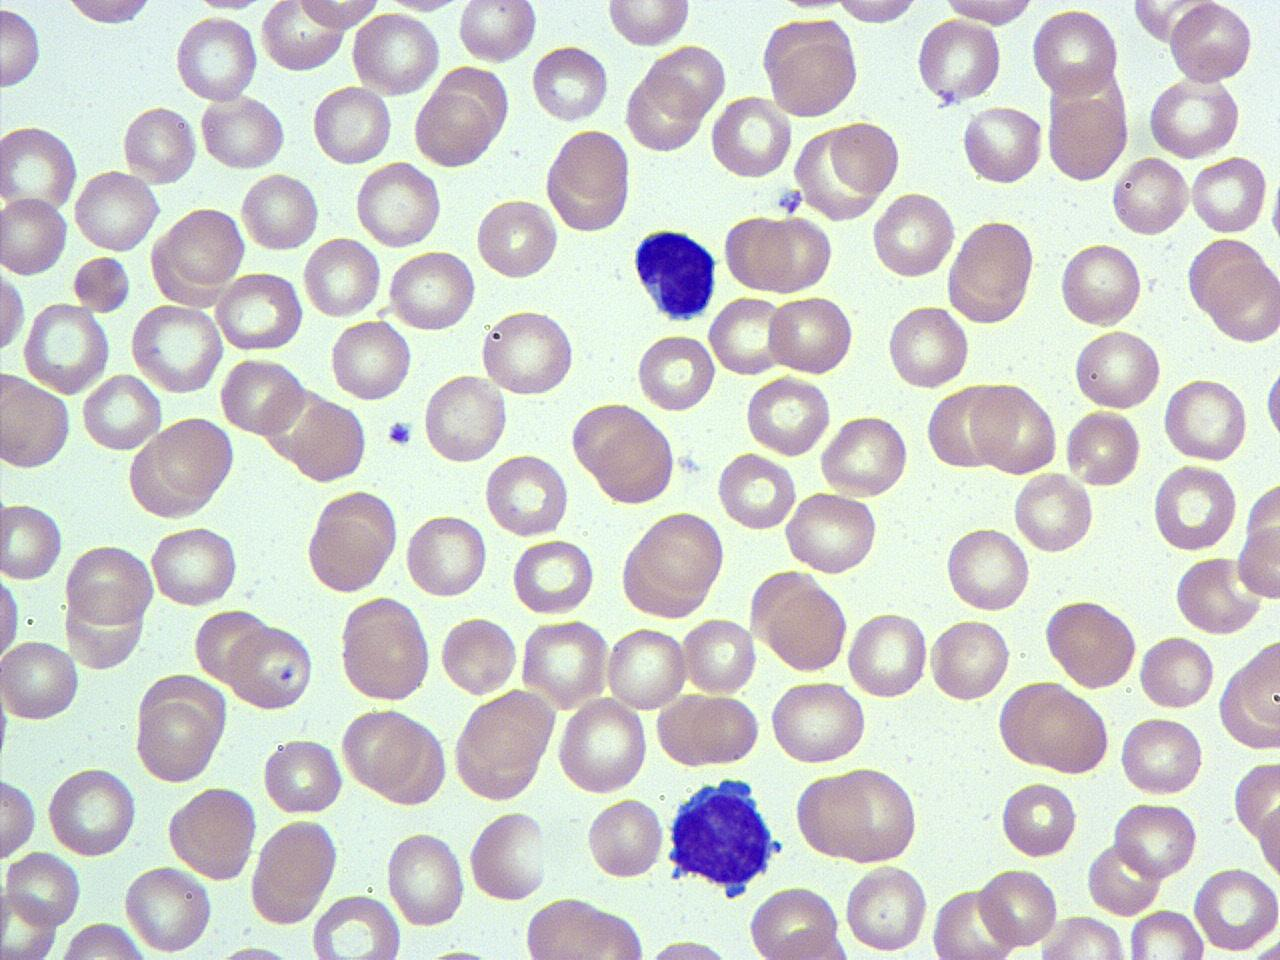Platelets: (772, 184, 804, 217), (387, 418, 417, 449)
RBC: (996, 678, 1113, 776), (452, 691, 555, 800), (304, 485, 402, 596), (337, 593, 433, 704), (572, 402, 676, 502), (249, 814, 340, 927), (944, 217, 1038, 325), (760, 19, 860, 120), (555, 694, 650, 798), (766, 677, 870, 768), (1041, 595, 1139, 692), (722, 211, 835, 294), (543, 127, 633, 232), (478, 306, 577, 399), (129, 301, 225, 395), (518, 616, 612, 712), (968, 380, 1060, 477), (166, 784, 256, 883), (781, 488, 881, 578), (830, 766, 920, 864), (794, 120, 882, 220), (382, 828, 468, 930), (120, 863, 214, 956), (350, 8, 444, 100), (1029, 6, 1121, 101), (21, 298, 112, 394), (842, 860, 930, 958), (45, 764, 139, 856), (132, 691, 221, 786), (147, 521, 242, 610), (420, 371, 508, 467), (817, 412, 912, 500), (71, 166, 162, 256), (1146, 73, 1242, 158), (1070, 327, 1166, 412), (467, 806, 550, 904), (353, 158, 443, 248), (914, 14, 1004, 105), (944, 523, 1033, 615), (63, 542, 155, 629), (1161, 373, 1249, 465), (635, 508, 726, 596), (402, 510, 490, 601), (884, 301, 972, 391), (1172, 552, 1266, 636), (1192, 864, 1280, 954), (870, 190, 956, 280), (474, 194, 560, 284), (174, 12, 259, 105), (385, 249, 478, 334), (226, 624, 314, 712), (482, 451, 570, 538), (1045, 91, 1129, 184), (213, 268, 305, 352), (769, 578, 850, 674), (605, 626, 692, 714), (1056, 240, 1144, 328), (1151, 462, 1237, 552), (927, 615, 1013, 705), (765, 293, 856, 378), (792, 770, 876, 862), (1108, 152, 1194, 240), (709, 92, 794, 181), (846, 610, 930, 700), (1011, 469, 1097, 557), (328, 318, 413, 404), (300, 232, 384, 321), (218, 354, 308, 436), (0, 635, 82, 726), (1, 120, 81, 213), (959, 102, 1046, 187), (152, 412, 236, 500), (339, 705, 421, 794), (0, 371, 73, 472), (976, 864, 1060, 950), (1169, 0, 1255, 85), (524, 902, 648, 960), (1118, 714, 1206, 796), (743, 376, 833, 457), (585, 794, 665, 883), (746, 885, 844, 959), (79, 370, 164, 454), (311, 82, 394, 168), (238, 168, 321, 255), (1110, 799, 1198, 879), (706, 293, 787, 380), (261, 734, 345, 818), (635, 329, 717, 414), (626, 65, 706, 152), (437, 614, 520, 698), (1188, 153, 1270, 237), (925, 383, 1003, 471), (198, 94, 286, 170), (999, 778, 1079, 862), (510, 538, 597, 616), (120, 103, 201, 186), (4, 846, 83, 931), (932, 881, 1018, 959), (190, 602, 272, 683), (412, 88, 493, 169), (1064, 407, 1144, 490), (530, 42, 610, 125), (308, 891, 403, 960), (258, 0, 346, 74), (1207, 258, 1280, 347), (716, 451, 796, 530), (1136, 632, 1215, 712), (680, 615, 758, 697), (294, 398, 367, 484), (167, 207, 244, 286), (0, 192, 71, 277), (649, 42, 728, 119), (828, 118, 904, 196), (0, 497, 65, 584), (454, 0, 538, 66), (689, 692, 760, 768), (605, 0, 693, 50), (0, 882, 57, 960), (1126, 906, 1206, 960), (1037, 913, 1131, 959), (1231, 756, 1279, 845), (0, 5, 45, 94), (54, 919, 151, 959), (1239, 638, 1279, 732), (71, 254, 131, 314), (1236, 524, 1280, 603), (0, 774, 38, 862), (937, 0, 1039, 30), (61, 0, 157, 30), (0, 258, 27, 364), (293, 0, 383, 31), (831, 0, 928, 26), (639, 936, 743, 960)
WBC: (662, 774, 786, 896), (630, 224, 722, 324)
